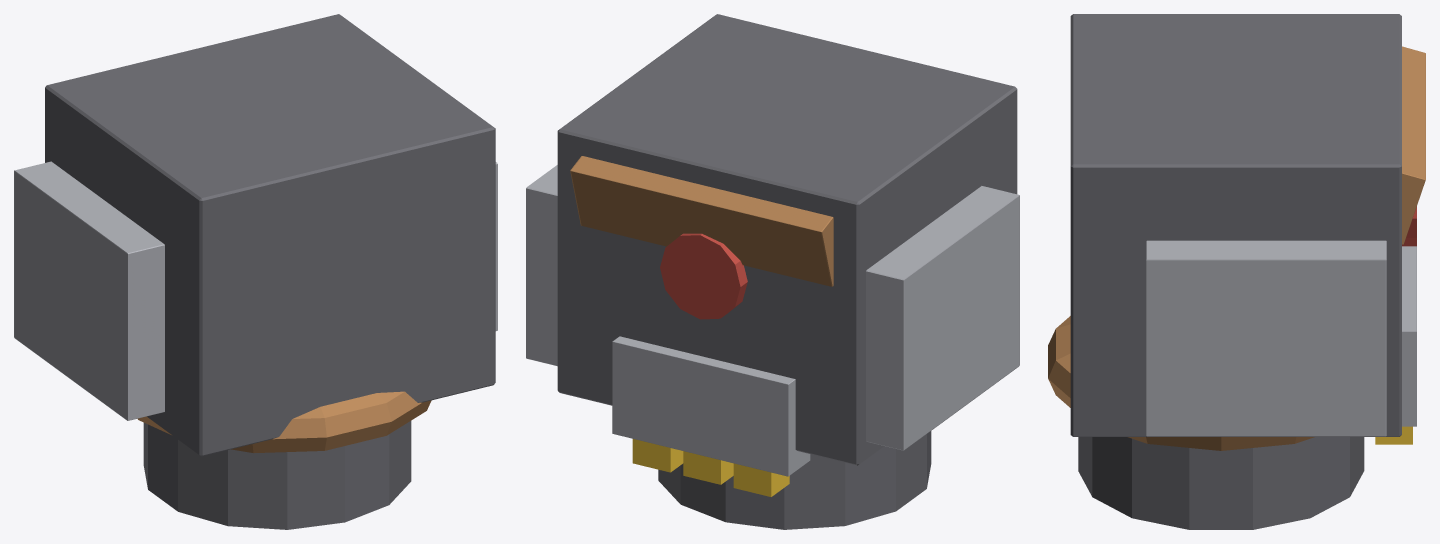
File: siege-maw.glb
The picture shows the model from 3 angles, left to right: view 1: azimuth 30°, elevation 25°; view 2: azimuth 150°, elevation 25°; view 3: azimuth 270°, elevation 25°; orthographic projection. The views are drawn at different scales.
Parts seen in each view (by area): view 1: block, cheek_r, neck, neckring; view 2: block, cheek_r, jawplate, brow, neck, cheek_l, eye, tooth0, tooth2, tooth1; view 3: block, cheek_l, neck, brow, neckring, jawplate.
Boxes of the visible parts, x1=… form: block: x1=45, y1=14, x2=495, y2=456; cheek_r: x1=14, y1=161, x2=164, y2=420; neck: x1=143, y1=421, x2=411, y2=529; neckring: x1=137, y1=391, x2=431, y2=453; block: x1=557, y1=14, x2=1017, y2=465; cheek_r: x1=866, y1=186, x2=1019, y2=450; jawplate: x1=612, y1=336, x2=810, y2=476; brow: x1=570, y1=156, x2=833, y2=286; neck: x1=658, y1=431, x2=931, y2=529; cheek_l: x1=526, y1=165, x2=557, y2=366; eye: x1=660, y1=233, x2=747, y2=319; tooth0: x1=733, y1=463, x2=789, y2=496; tooth2: x1=632, y1=439, x2=683, y2=472; tooth1: x1=683, y1=451, x2=733, y2=484; block: x1=1070, y1=14, x2=1401, y2=436; cheek_l: x1=1146, y1=240, x2=1386, y2=436; neck: x1=1078, y1=437, x2=1364, y2=529; brow: x1=1402, y1=46, x2=1425, y2=244; neckring: x1=1048, y1=316, x2=1314, y2=450; jawplate: x1=1402, y1=246, x2=1416, y2=426.
Bounding box in the file's own units: 0.3 × 0.28 × 0.251.
